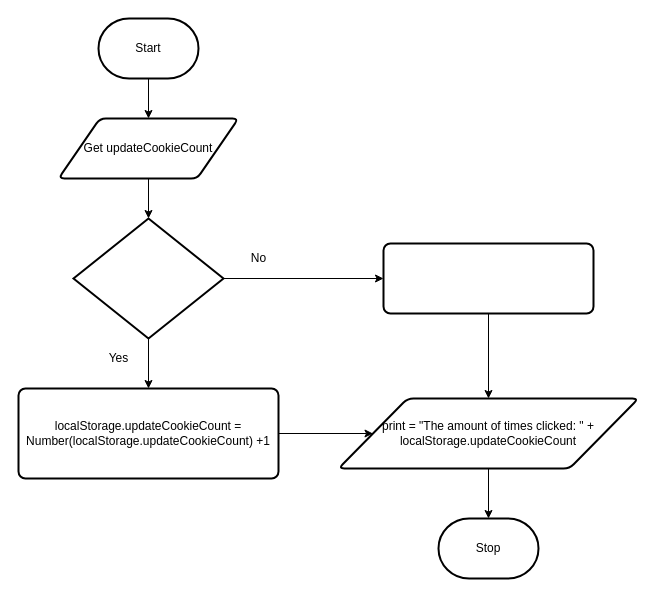
Some shapes in this 656 by 596 pixel diagram are drawn without their labels. Here are the shapes that lost their labels. From the top down, the box of each, then its label:
(72, 217, 224, 339): if (localStorage. updateCookieCount)
(382, 242, 594, 314): localStorage.updateCookieCount = 1
